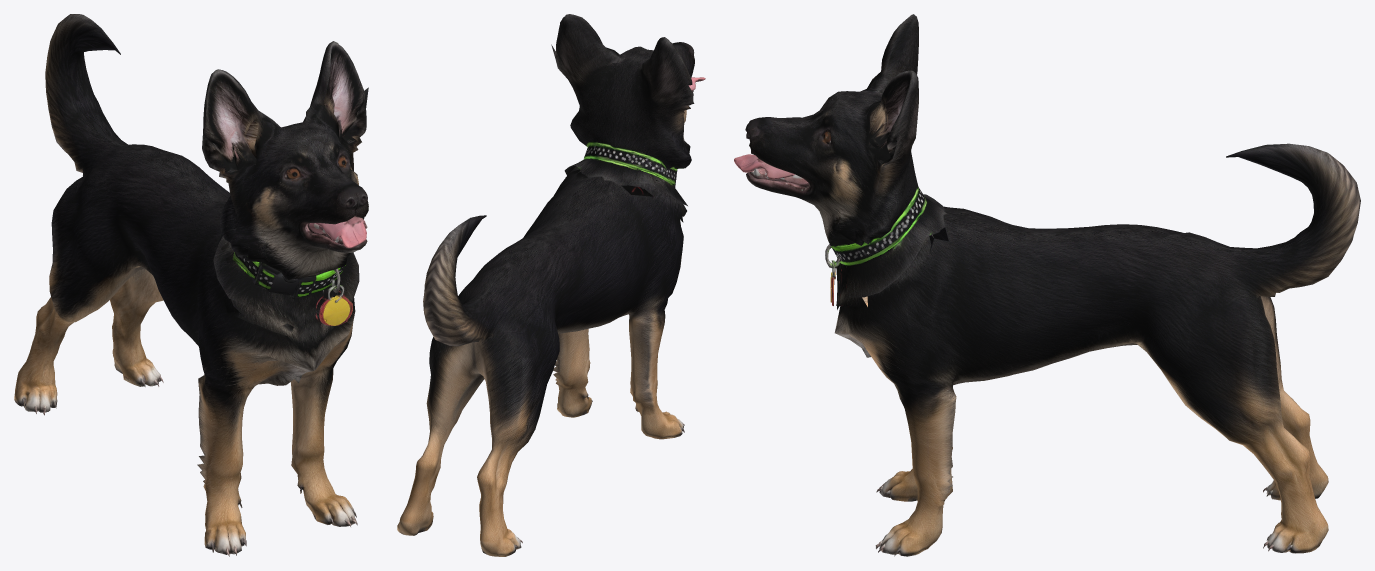
The model's file is Meshy_AI_Bright_Eyed_Buddy_20261125_texture.glb.
3 renders of one model, left to right at view 1: azimuth 30°, elevation 25°; view 2: azimuth 150°, elevation 25°; view 3: azimuth 270°, elevation 25°, orthographic. The views are drawn at different scales.
Size of the model in its own units: 0.2998 by 0.8071 by 0.9575.
Materials: 1 (1 with a texture image).
